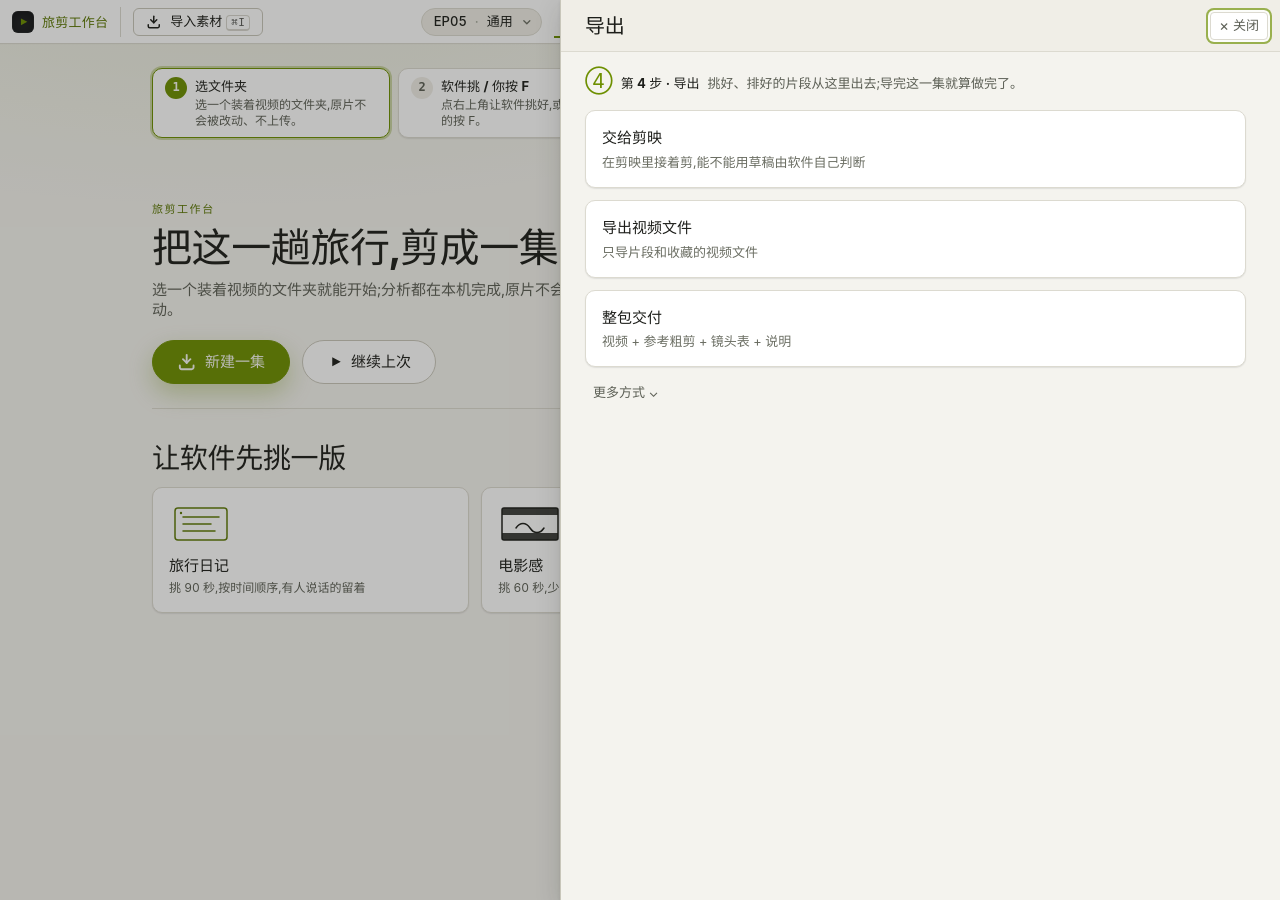
交付抽屉 · 剪映素材包(R14 §9 B) › 剪映可用:chip 顺序不变,默认仍是「剪映草稿」;点「剪映素材包」也能切过去
Click the button "更多方式 ⌄".
click(626, 393)  # box [585,379,667,406]
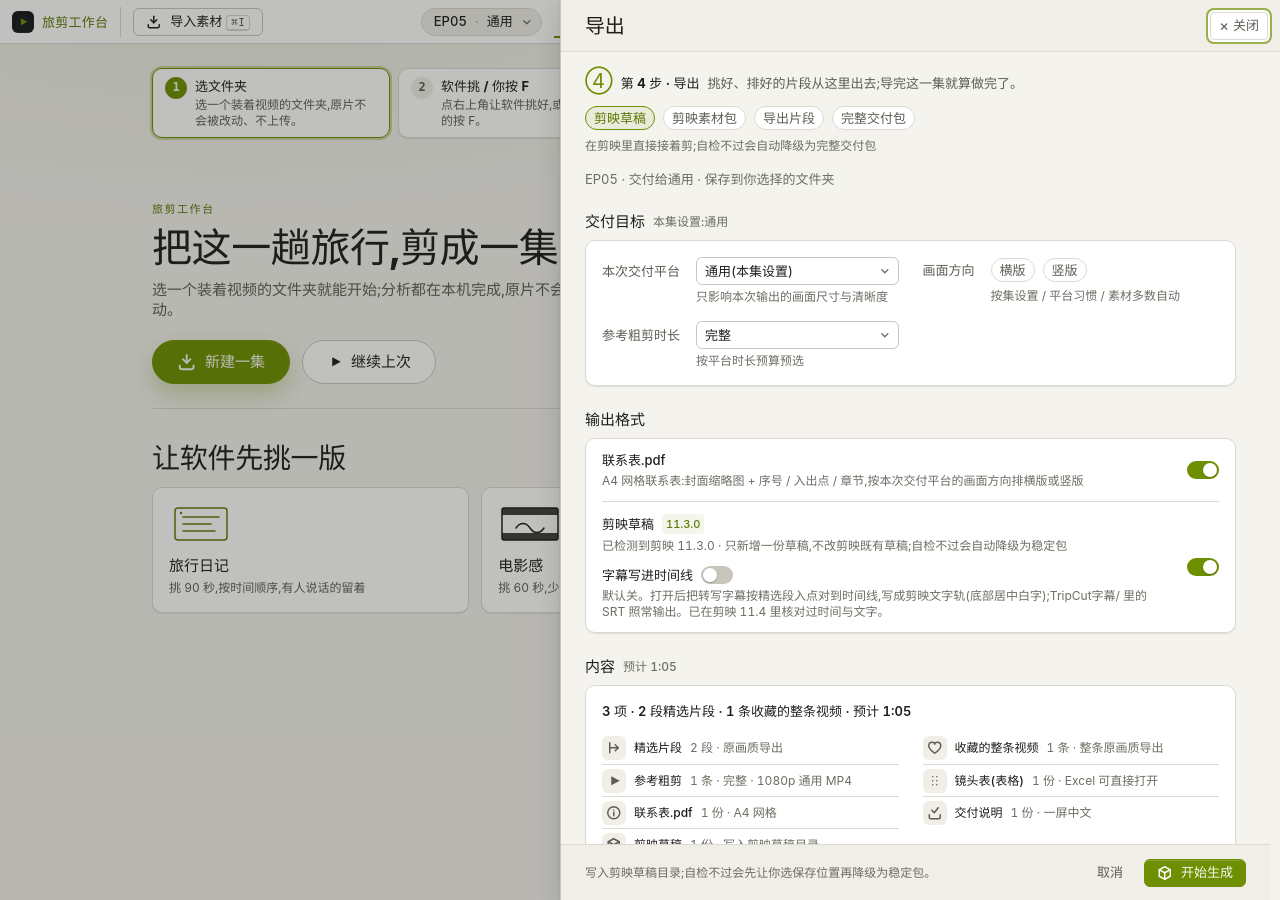
Click the button "剪映素材包".
click(704, 118)  # box [663,106,746,130]
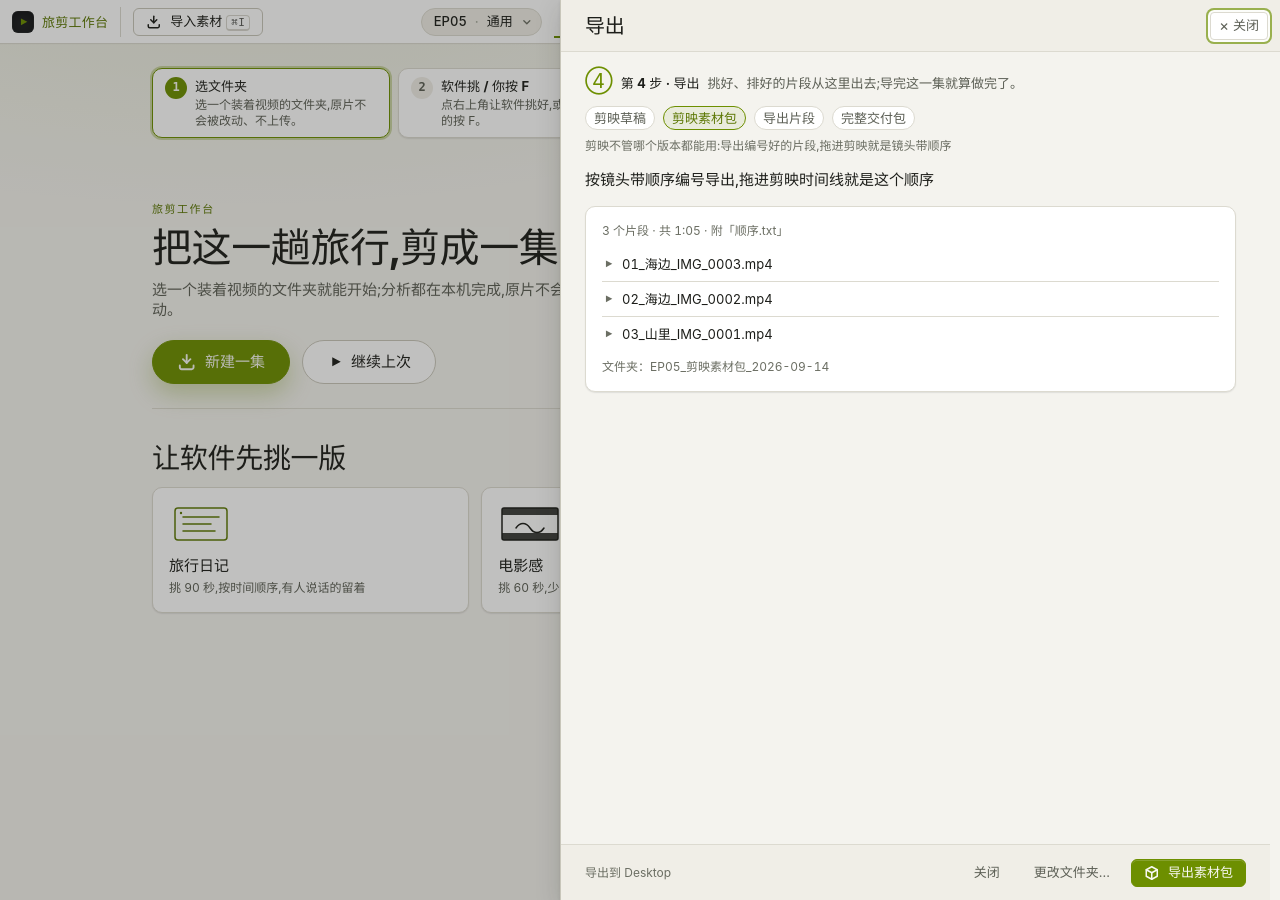
Expected: the text "按镜头带顺序编号导出,拖进剪映时间线就是这个顺序" is shown, [585,170,934,189]
